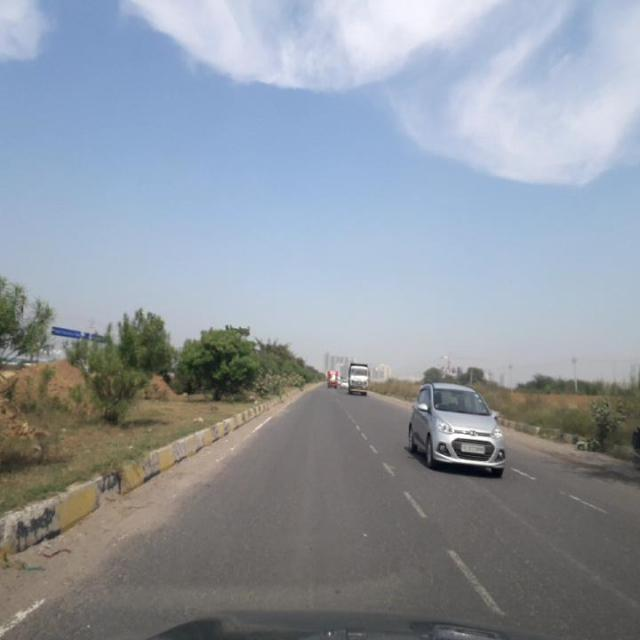D40: (18, 546, 154, 626)
